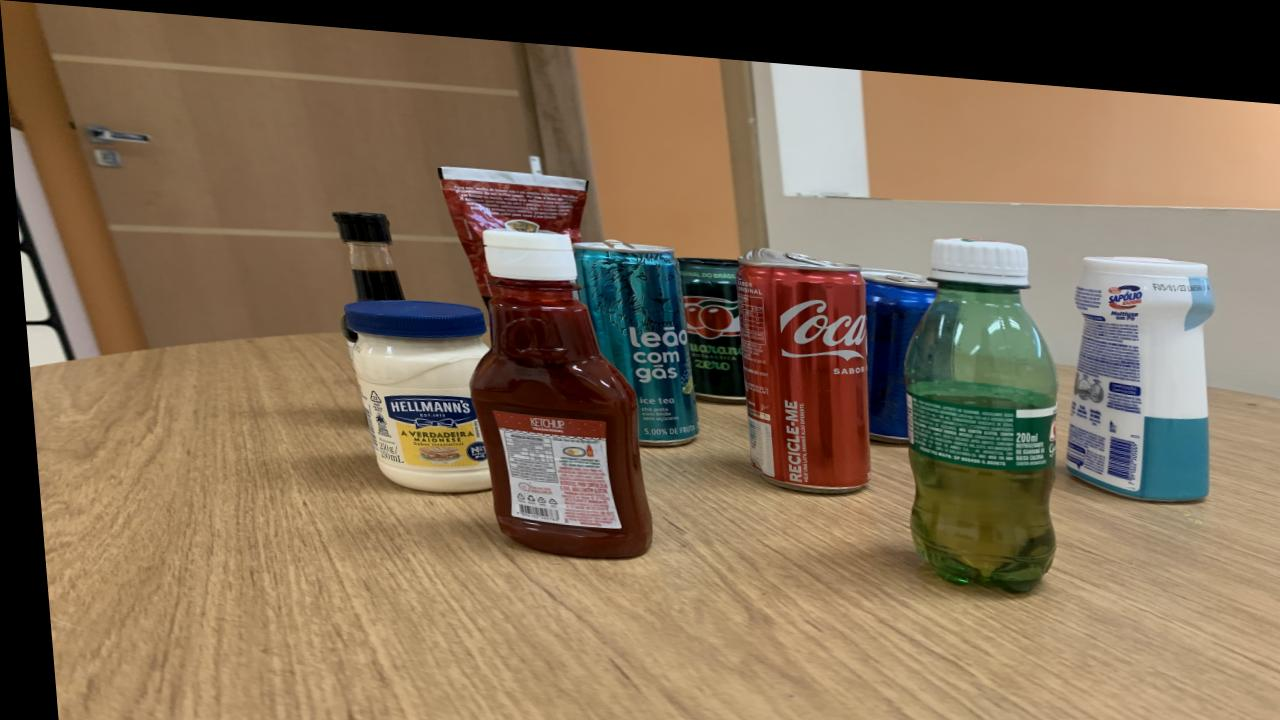Cleaner-Cleanup_Items: (1059, 237, 1211, 482)
Coke-Drinks: (732, 235, 864, 479)
English_Sauce-Pantry_Items: (329, 206, 400, 296)
Guarana-Drinks: (899, 222, 1052, 576)
Guarana_Can-Drinks: (673, 245, 739, 391)
Ketchup-Pantry_Items: (465, 219, 644, 549)
Mayonnaise-Pantry_Items: (340, 293, 484, 485)
Tea-Drinks: (570, 229, 692, 435)
Tomato_Sauce-Pantry_Items: (436, 159, 586, 290)
Tonic-Drinks: (858, 253, 934, 429)
